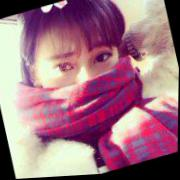WRONG: (35, 28, 133, 133)
